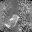people: (10, 14, 19, 26)
